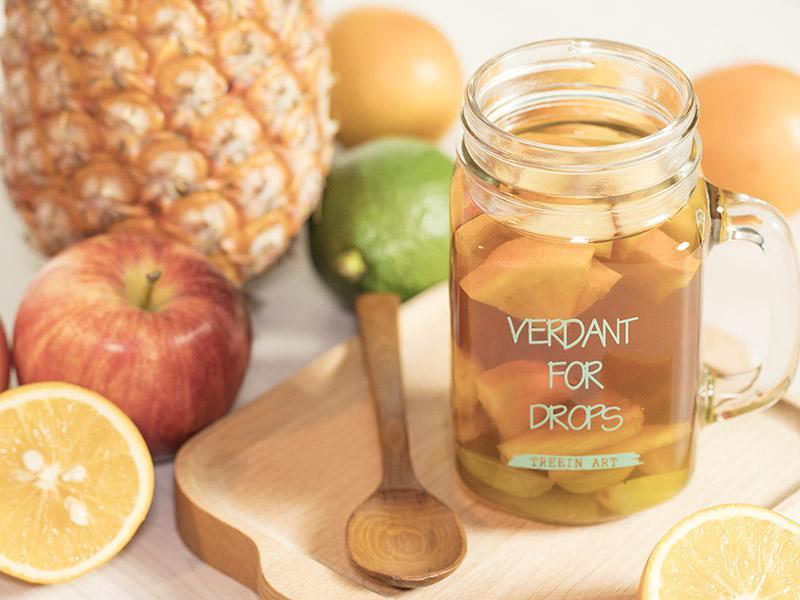apple: (14, 233, 255, 462)
